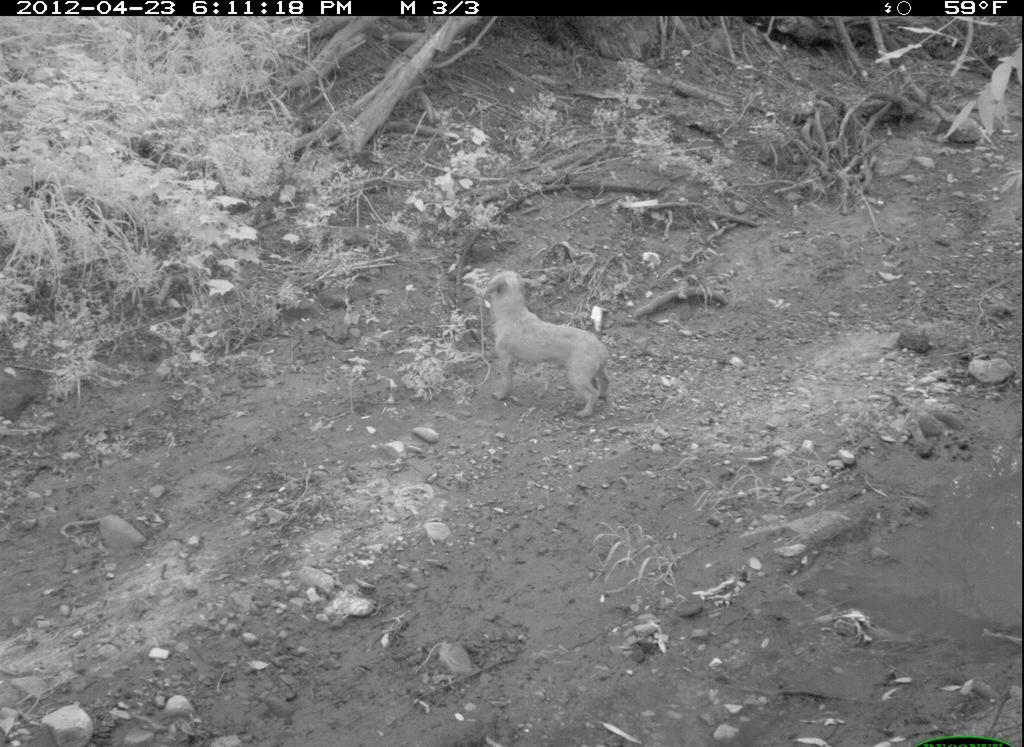dog: (469, 257, 614, 423)
